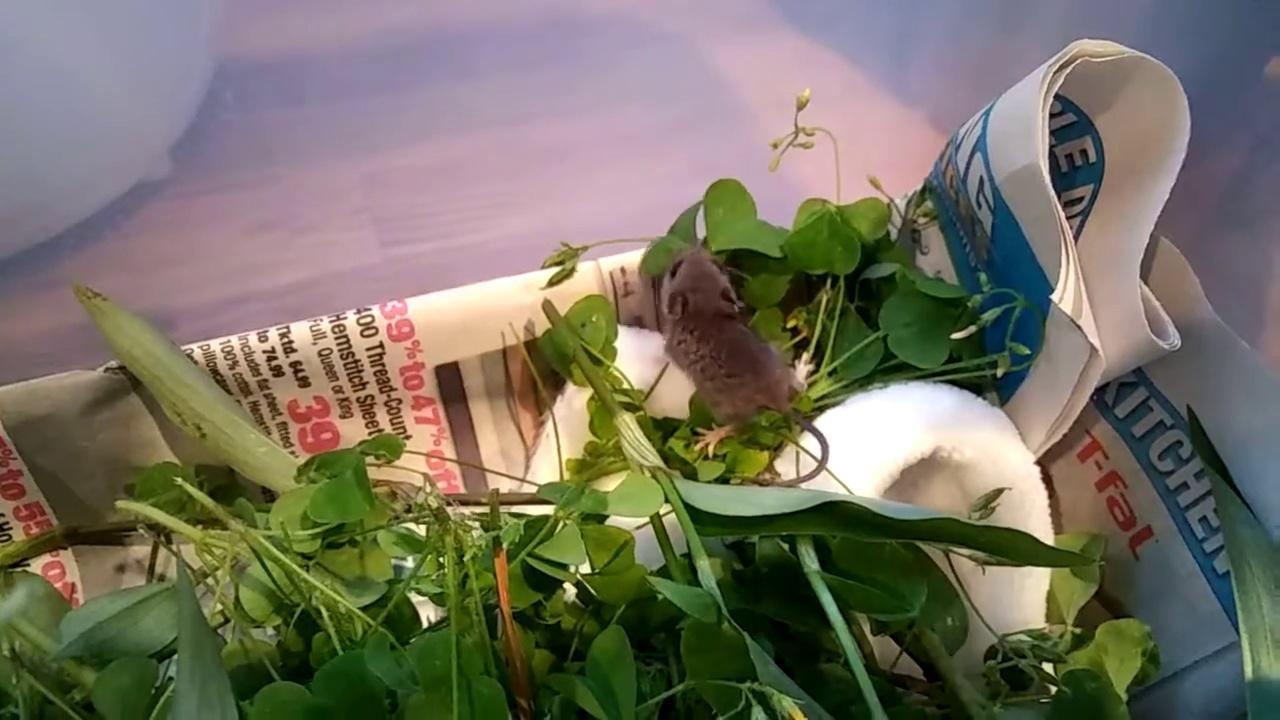rat: (661, 244, 817, 459)
